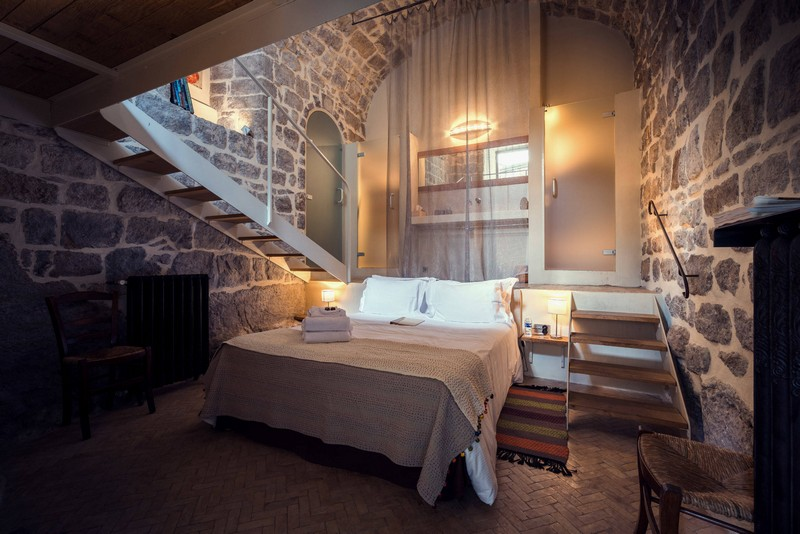bed: (217, 272, 512, 506)
chair: (38, 287, 160, 433), (639, 424, 751, 526)
door: (528, 103, 643, 285), (295, 94, 361, 291)
lamp: (544, 297, 569, 343), (319, 285, 342, 314)
